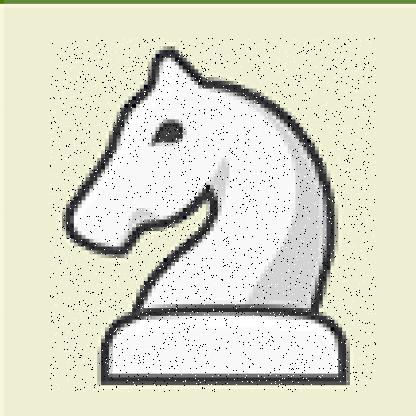White Knight: (50, 38, 377, 393)
